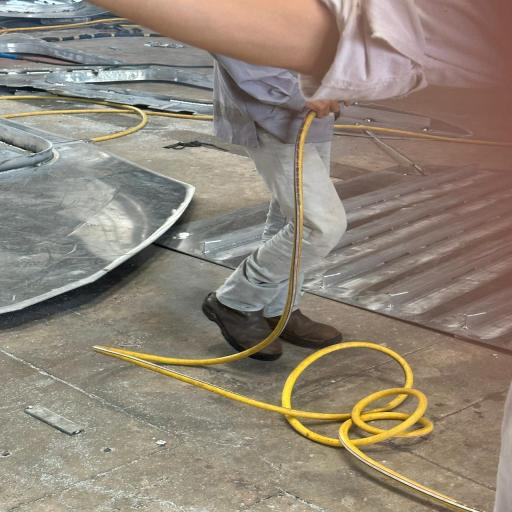safety_shoe: (195, 289, 282, 362), (263, 302, 346, 350)
